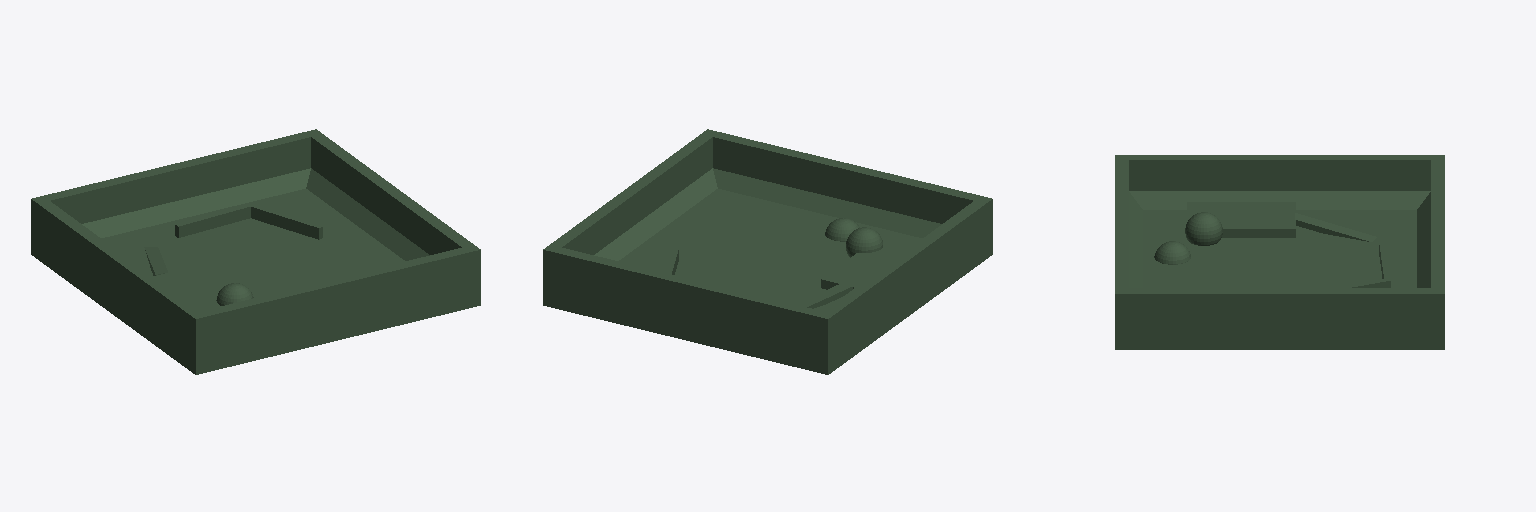
File: TestMap.obj
3 views of the same model, side by side, from view 1: azimuth 30°, elevation 25°; view 2: azimuth 150°, elevation 25°; view 3: azimuth 270°, elevation 25° (orthographic).
Parts seen in each view (by area): view 1: Plane, Cube.003, Cube.001, Cube, Sphere; view 2: Plane, Cube.003, Sphere, Cube.002, Sphere.001; view 3: Plane, Cube.003, Sphere, Cube.002, Sphere.001.
Part boxes in pixels (bbox=[...]): Plane: bbox=[31, 129, 480, 374]; Cube.003: bbox=[153, 268, 220, 310]; Cube.001: bbox=[175, 204, 250, 237]; Cube: bbox=[247, 203, 322, 239]; Sphere: bbox=[216, 283, 253, 305]; Plane: bbox=[543, 129, 992, 374]; Cube.003: bbox=[821, 242, 908, 289]; Sphere: bbox=[846, 227, 882, 257]; Cube.002: bbox=[795, 284, 852, 308]; Sphere.001: bbox=[825, 218, 859, 241]; Plane: bbox=[1115, 155, 1444, 349]; Cube.003: bbox=[1187, 202, 1295, 237]; Sphere: bbox=[1185, 212, 1222, 245]; Cube.002: bbox=[1295, 213, 1376, 241]; Sphere.001: bbox=[1154, 241, 1190, 264].
Size of the model in its own units: 48 by 10.23 by 48.